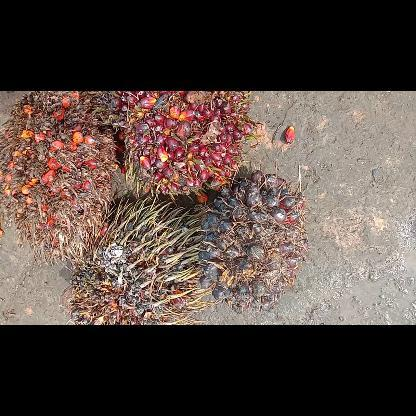TBS abnormal: (60, 200, 204, 324)
TBS masak: (121, 90, 257, 202)
TBS mentah: (199, 170, 306, 310)
Terlalu masak: (0, 91, 118, 261)
